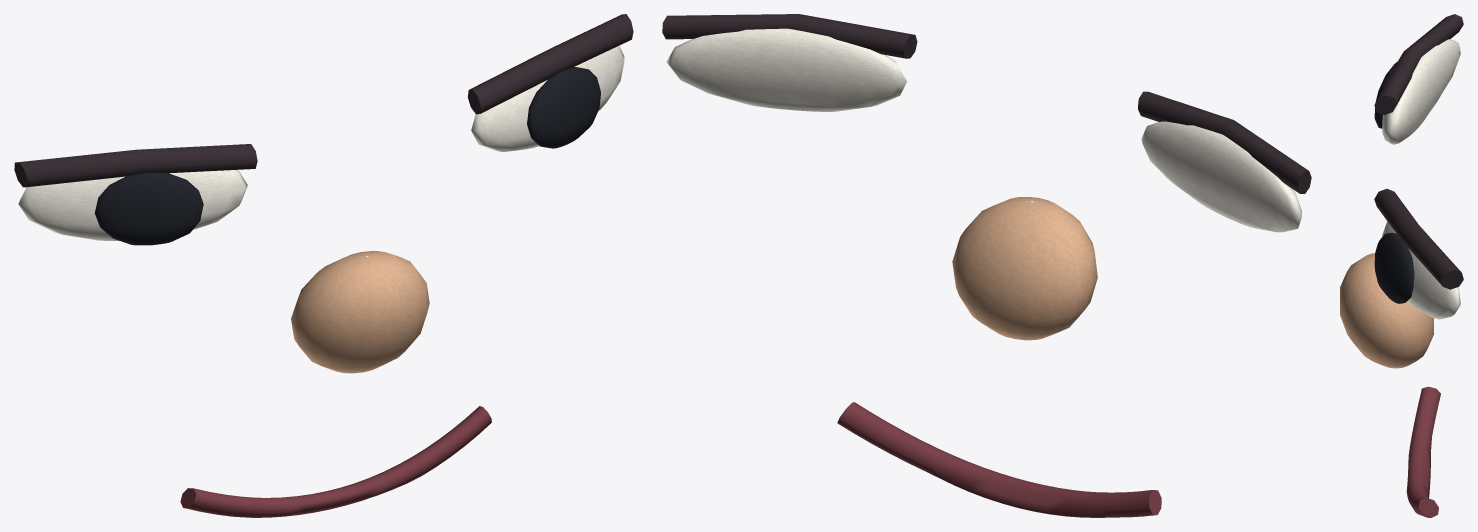
The model's file is face_half_lid.gltf.
The picture shows the model from 3 angles, left to right: view 1: azimuth 30°, elevation 25°; view 2: azimuth 150°, elevation 25°; view 3: azimuth 270°, elevation 25°; orthographic projection. The views are drawn at different scales.
Parts seen in each view (by area): view 1: Unbothered; view 2: Unbothered; view 3: Unbothered.
Part boxes in pixels (left/top/right/bottom): Unbothered: left=14, top=14, right=633, bottom=517; Unbothered: left=662, top=14, right=1311, bottom=517; Unbothered: left=1340, top=14, right=1463, bottom=517.
Size of the model in its own units: 0.2667 by 0.1726 by 0.0545.
5 materials, 5 textured.
